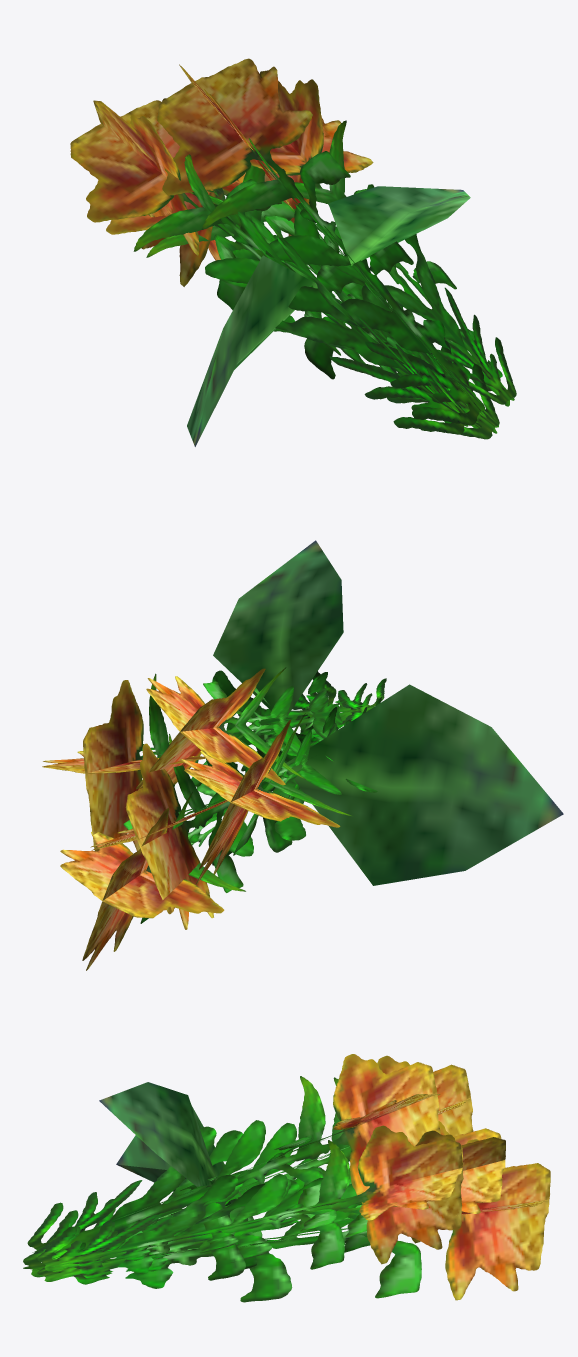
File: diadelosmuertos_graveflowers_01.obj
The picture shows the model from 3 angles, top to bottom: view 1: azimuth 30°, elevation 25°; view 2: azimuth 150°, elevation 25°; view 3: azimuth 270°, elevation 25°; orthographic projection. The views are drawn at different scales.
Parts seen in each view (by area): view 1: DIADELOSMUERTOS_GRAVEFLOWERS_010; view 2: DIADELOSMUERTOS_GRAVEFLOWERS_010; view 3: DIADELOSMUERTOS_GRAVEFLOWERS_010.
Boxes of the visible parts, x1,y1,x2,y2 form: DIADELOSMUERTOS_GRAVEFLOWERS_010: [70, 58, 516, 446]; DIADELOSMUERTOS_GRAVEFLOWERS_010: [42, 540, 563, 970]; DIADELOSMUERTOS_GRAVEFLOWERS_010: [23, 1054, 550, 1302].
Size of the model in its own units: 0.2589 by 0.2494 by 0.4446.
1 material, 1 textured.
